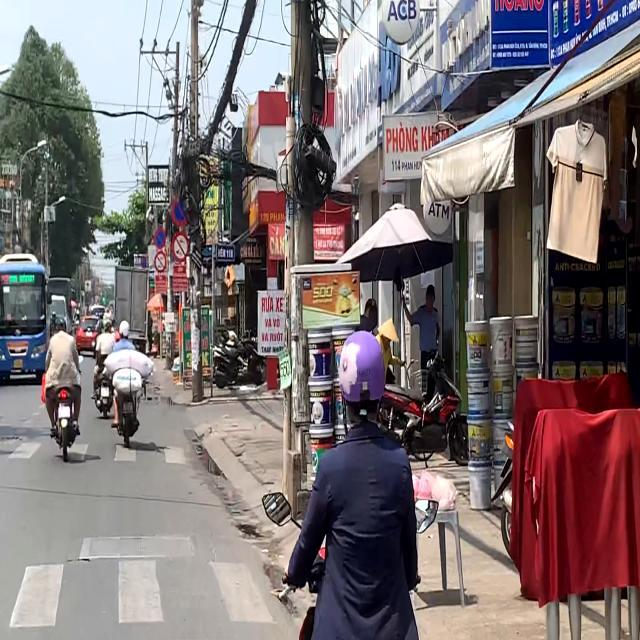Cam do xe: (153, 227, 166, 250)
